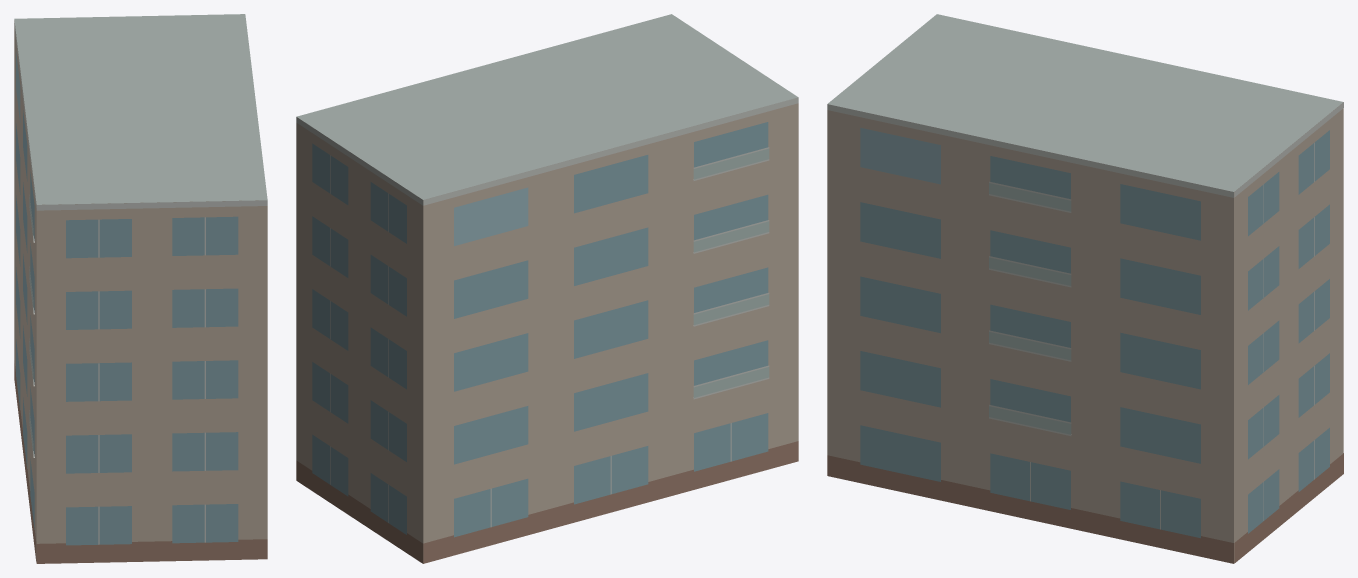
Rendered from survey-upis-32525190.glb.
3 views of the same model, side by side, from view 1: azimuth 30°, elevation 25°; view 2: azimuth 150°, elevation 25°; view 3: azimuth 270°, elevation 25° (orthographic). The views are drawn at different scales.
Parts seen in each view (by area): view 1: survey-upis-32525190.tmp; view 2: survey-upis-32525190.tmp; view 3: survey-upis-32525190.tmp.
Boxes of the visible parts, x1,y1,x2,y2 form: survey-upis-32525190.tmp: (14,14,267,563); survey-upis-32525190.tmp: (296,14,798,563); survey-upis-32525190.tmp: (827,14,1343,563).
Bounding box in the file's own units: 15.66 × 15.25 × 19.21.
